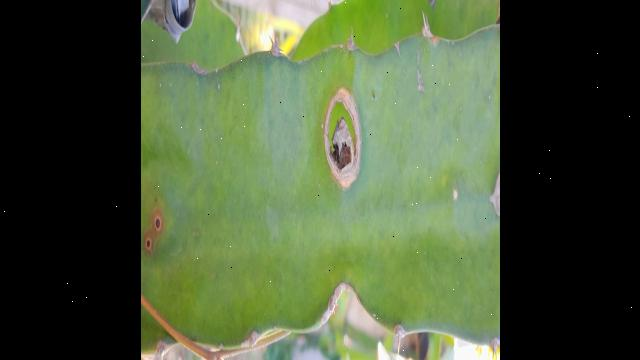stemcanker: (144, 203, 170, 241), (141, 231, 157, 257)
